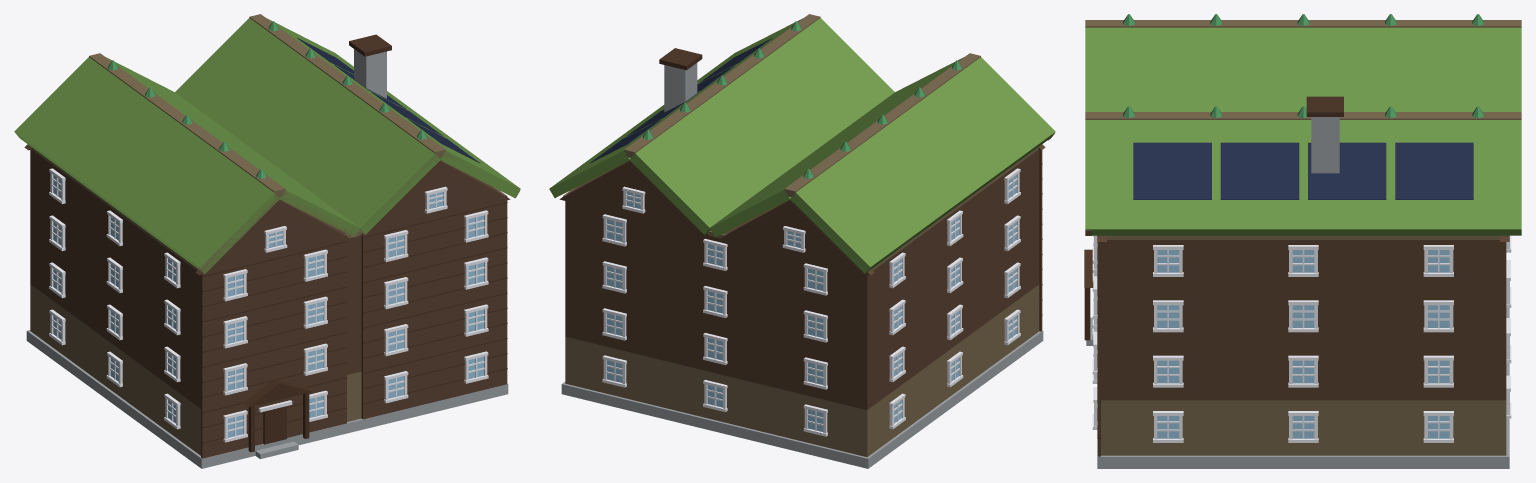
The model's file is house-2x2-4f-turf-a-solar.glb.
3 views of the same model, side by side, from view 1: azimuth 30°, elevation 25°; view 2: azimuth 150°, elevation 25°; view 3: azimuth 270°, elevation 25° (orthographic). The views are drawn at different scales.
Visible parts, largest first — view 1: house-2x2-4f-turf-a-solar; view 2: house-2x2-4f-turf-a-solar; view 3: house-2x2-4f-turf-a-solar.
Part boxes in pixels (x1=…): house-2x2-4f-turf-a-solar: x1=14, y1=14, x2=520, y2=468; house-2x2-4f-turf-a-solar: x1=549, y1=14, x2=1055, y2=468; house-2x2-4f-turf-a-solar: x1=1084, y1=14, x2=1521, y2=468.
Bounding box in the file's own units: 2 × 1.73 × 2.
Materials: 1 (1 with a texture image).
